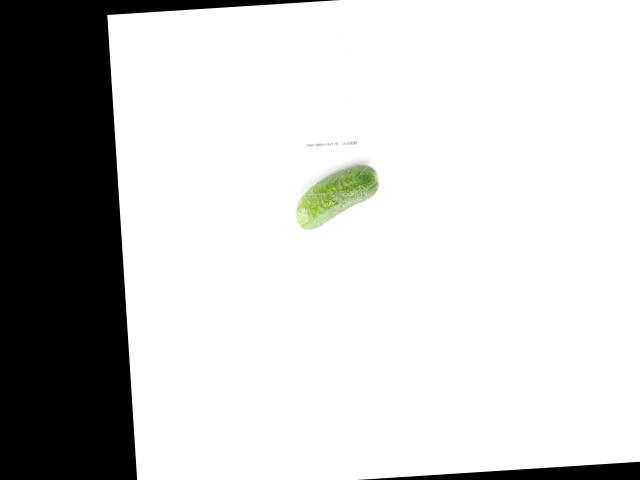cucumber: (293, 163, 381, 230)
